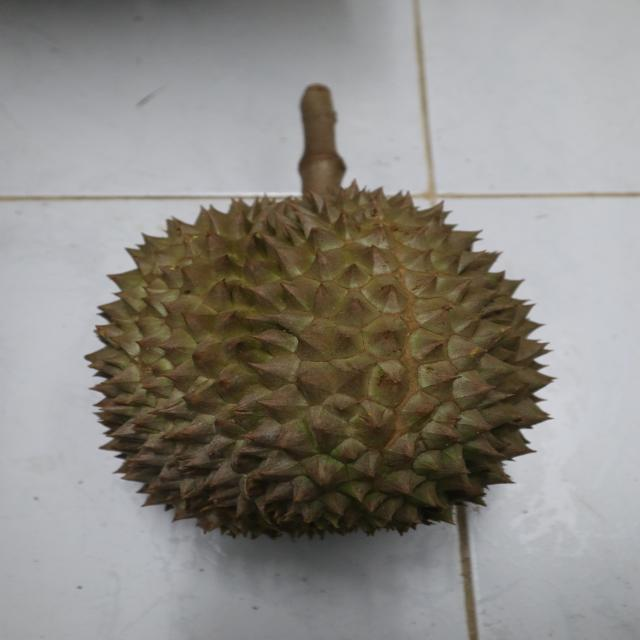mature: (82, 186, 562, 540)
